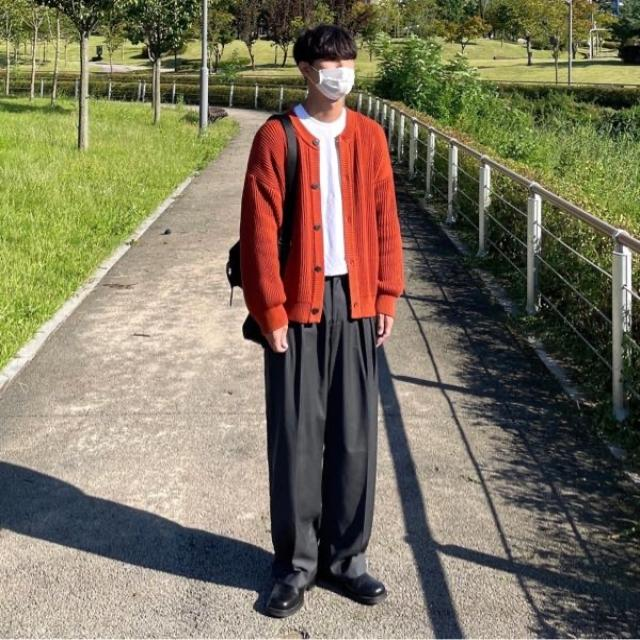cardigan: (239, 101, 407, 334)
slacks: (263, 272, 381, 584)
